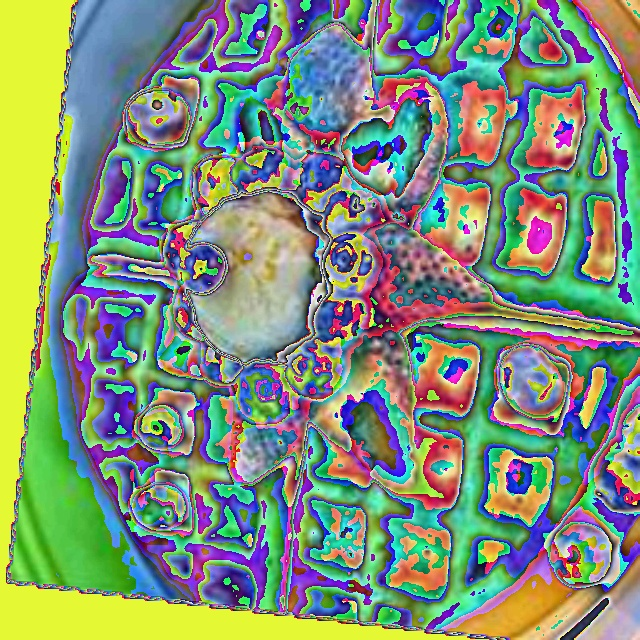background: (58, 0, 639, 633)
